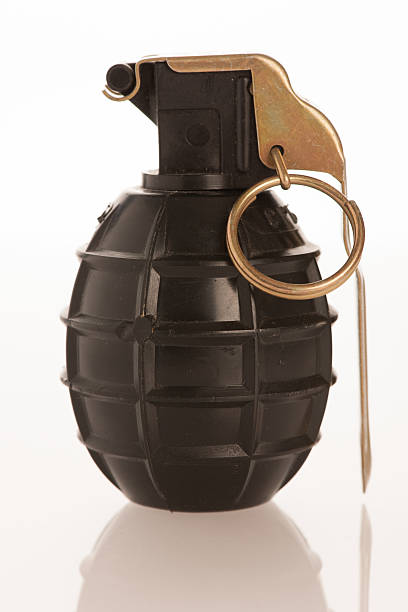e1: (64, 53, 376, 511)
